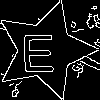E: (20, 25, 56, 72)
